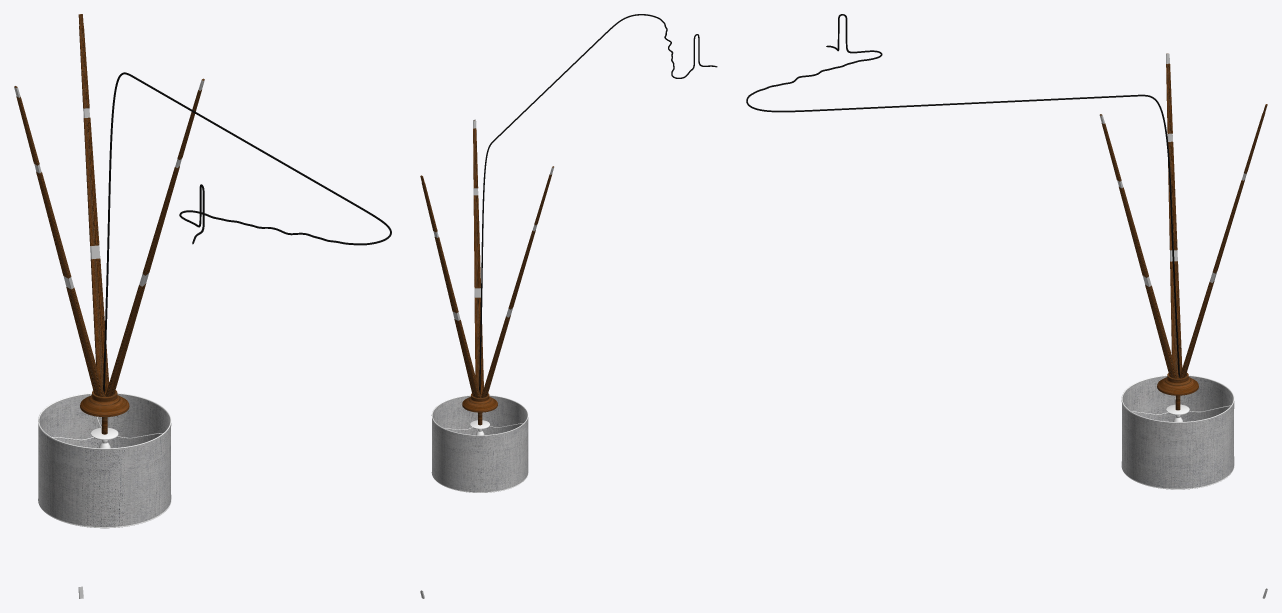
File: lampara.obj
The picture shows the model from 3 angles, left to right: view 1: azimuth 30°, elevation 25°; view 2: azimuth 150°, elevation 25°; view 3: azimuth 270°, elevation 25°; orthographic projection. The views are drawn at different scales.
Visible parts, largest first — view 1: Sweep; view 2: Sweep; view 3: Sweep.
Part boxes in pixels (x1,y1,x2,y2): Sweep: (14,14,391,598); Sweep: (420,14,717,598); Sweep: (746,14,1267,598).
Bounding box in the file's own units: 59.02 × 199 × 177.
